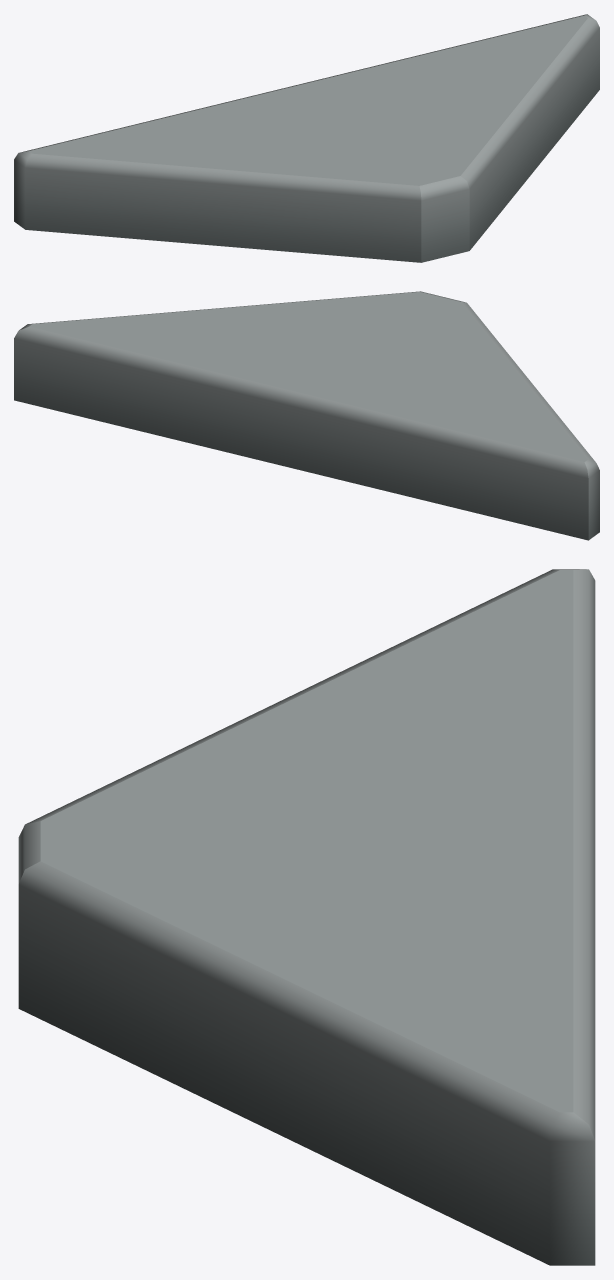
The model's file is bottone_v05_1.fbx.
3 views of the same model, one above another, from view 1: azimuth 30°, elevation 25°; view 2: azimuth 150°, elevation 25°; view 3: azimuth 270°, elevation 25° (orthographic). The views are drawn at different scales.
Parts seen in each view (by area): view 1: bottone_v05_1; view 2: bottone_v05_1; view 3: bottone_v05_1.
Boxes of the visible parts, x1,y1,x2,y2 form: bottone_v05_1: (14,14,599,262); bottone_v05_1: (14,291,599,540); bottone_v05_1: (18,569,595,1265).
Size of the model in its own units: 3.95 by 0.4729 by 1.72.
